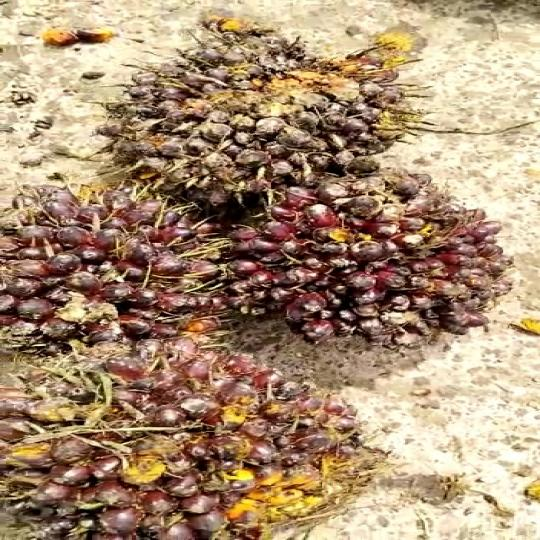kurang masak: (0, 344, 390, 540), (232, 176, 510, 340), (133, 40, 410, 201), (0, 188, 223, 348)
